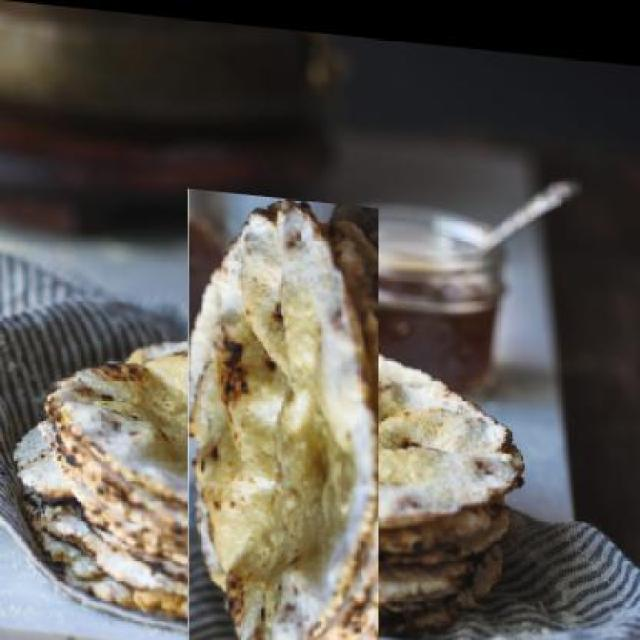chapati: (116, 250, 453, 613)
